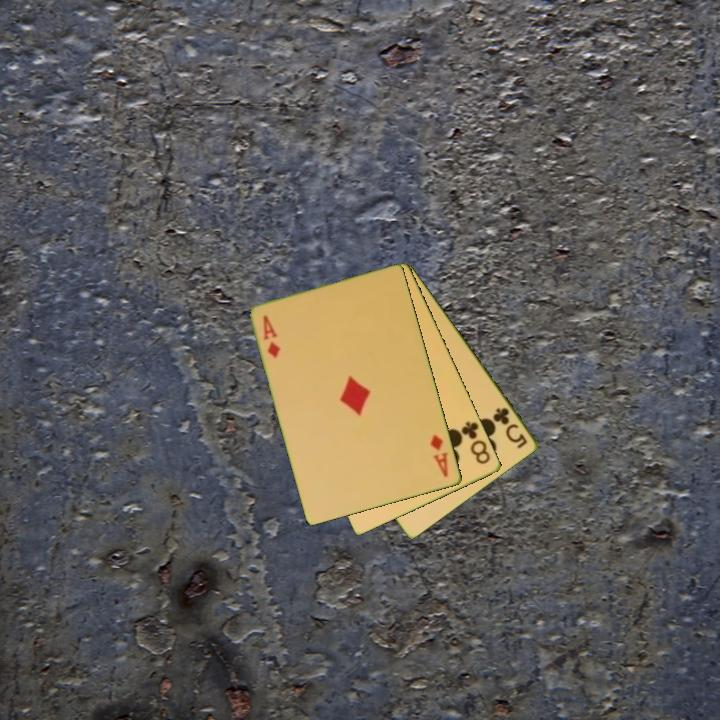5c: (490, 404, 531, 451)
8c: (458, 418, 493, 467)
Ad: (427, 431, 452, 480), (260, 311, 284, 362)
